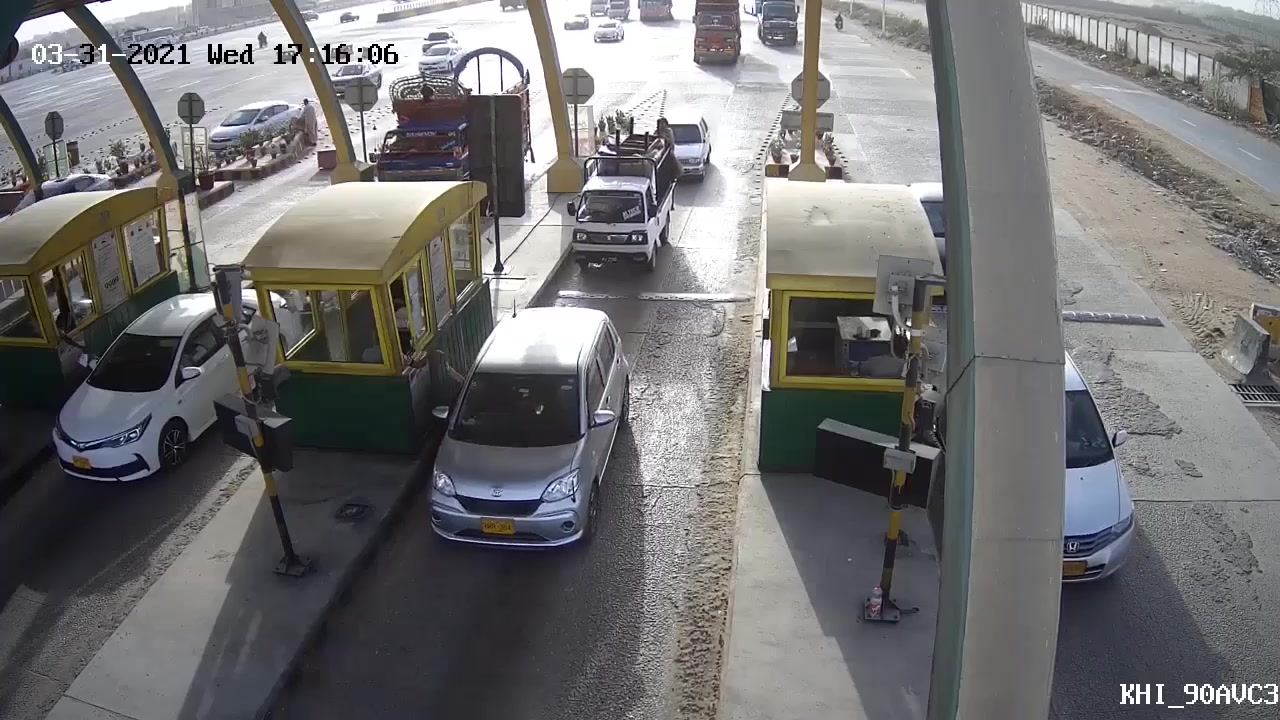F1: (420, 302, 642, 556), (574, 126, 683, 278)
